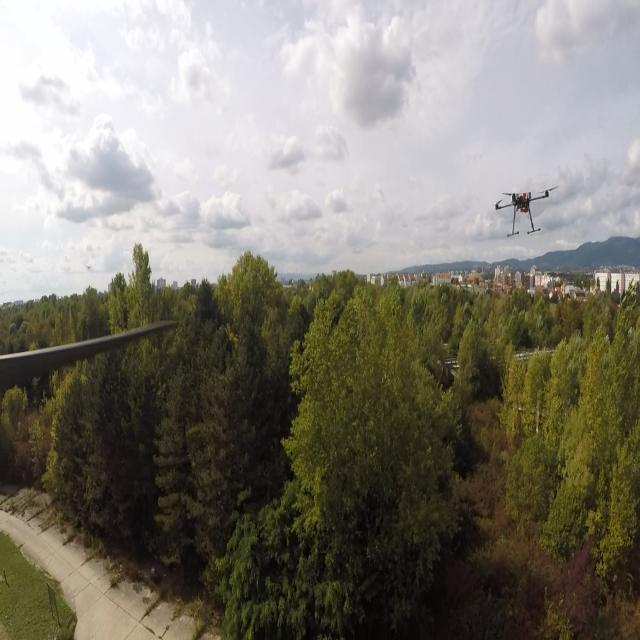UAV: (489, 178, 561, 240)
